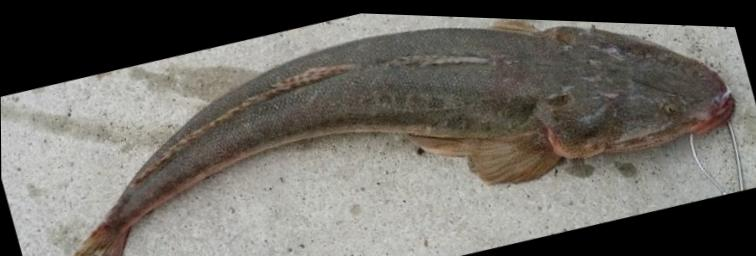fish: (70, 17, 738, 256)
